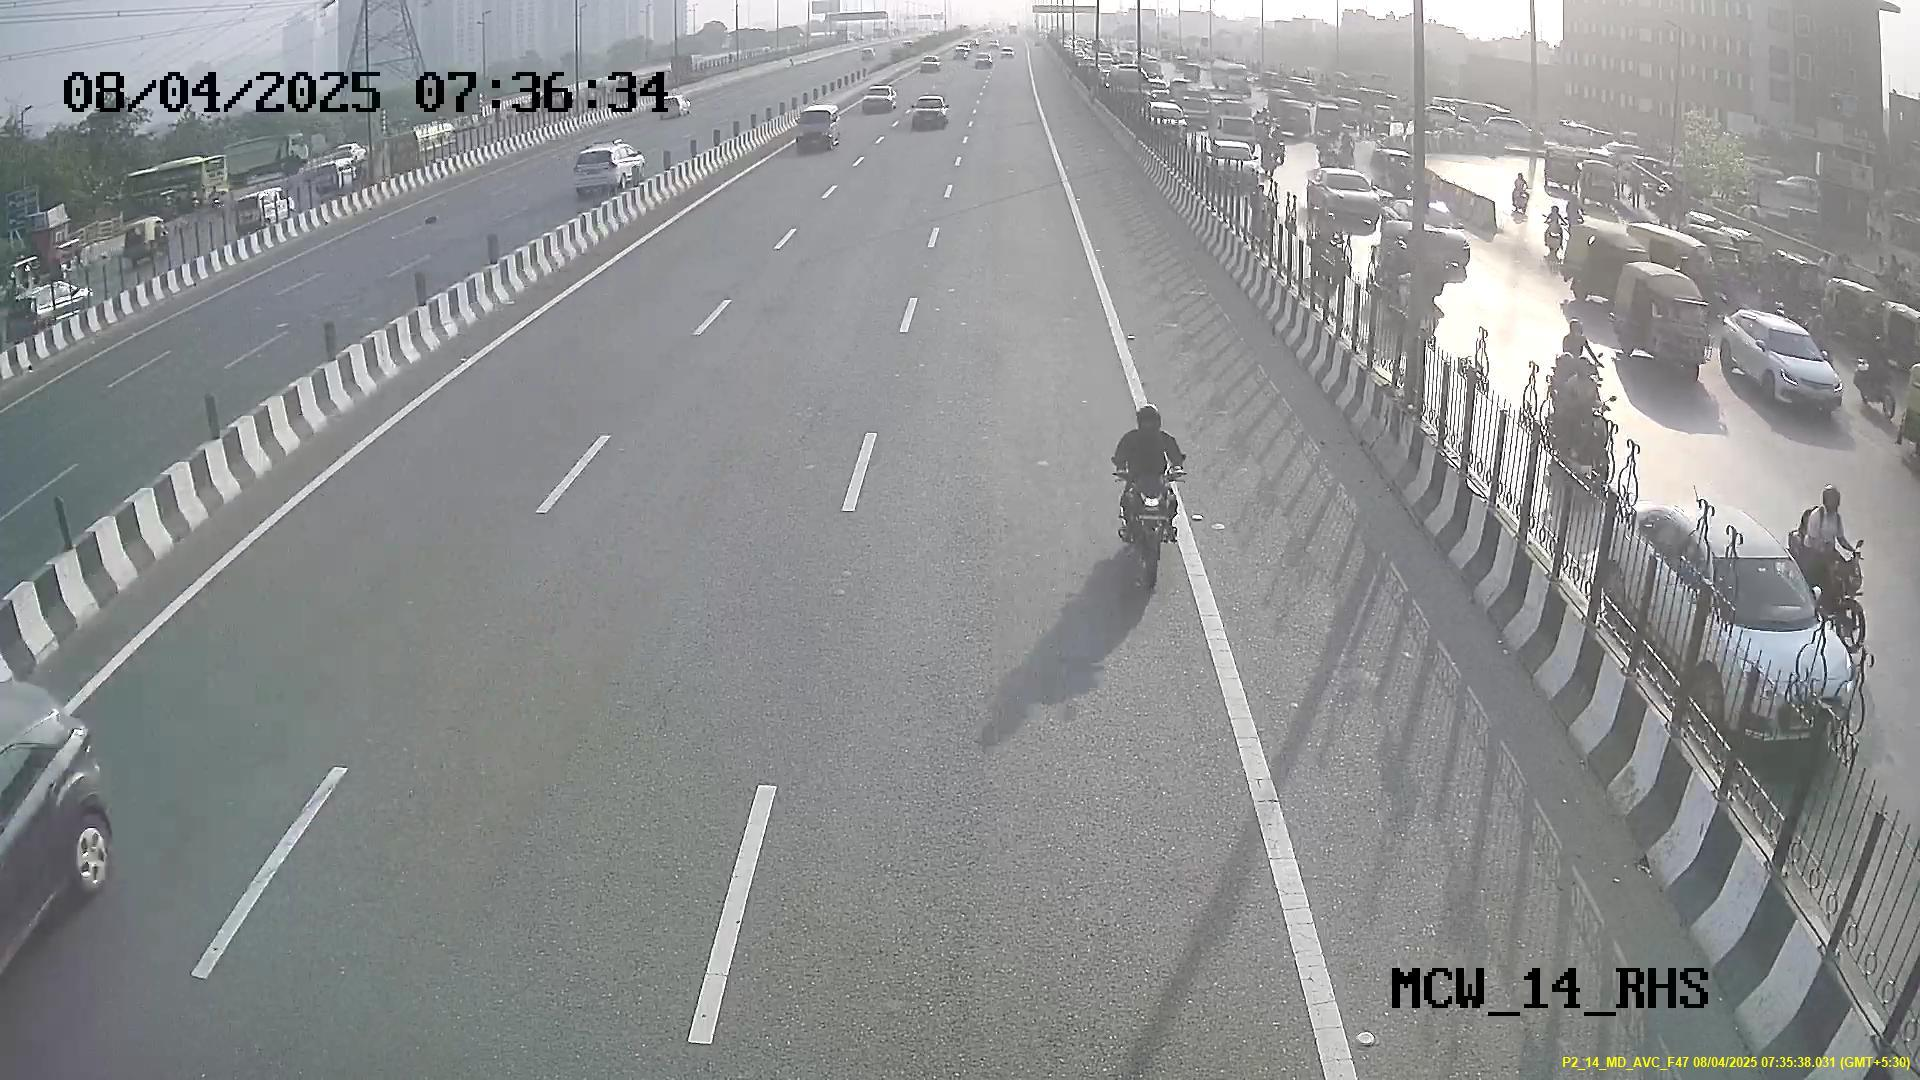bike: (1102, 398, 1193, 593)
